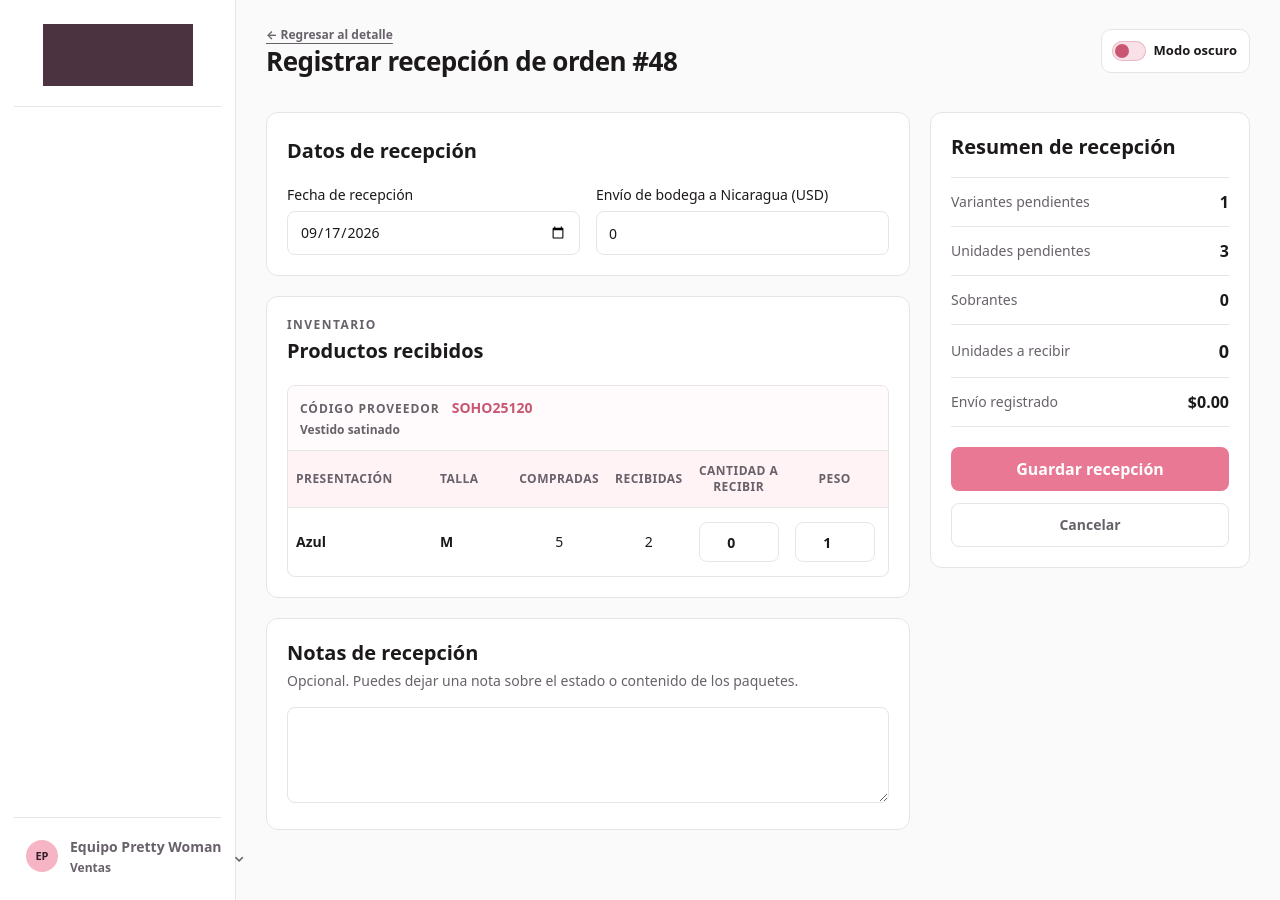
Test case: PurchaseOrderReceivePage › requiere confirmar antes de enviar la recepción y permite cancelar
The width and height of the screenshot is (1280, 900).
Expected: the heading "Registrar recepción de orden #48" is shown, [266, 47, 677, 76]
Click the button "Guardar recepción" at (1090, 469), box [951, 447, 1229, 491]
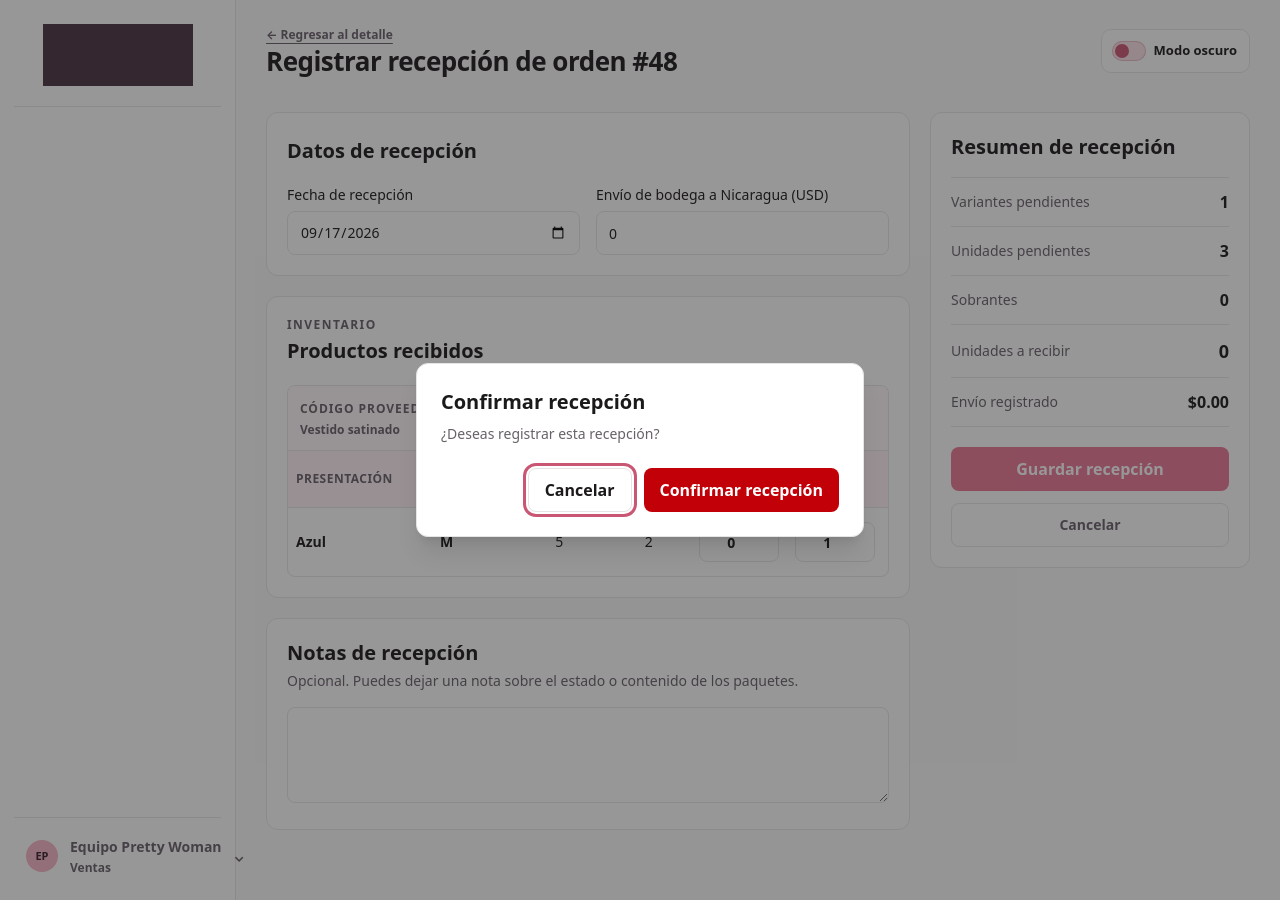
Expected: the dialog "Confirmar recepción" shows "¿Deseas registrar esta recepción?", [441, 424, 660, 443]
Click the button "Cancelar" at (580, 490), box [528, 468, 632, 512]
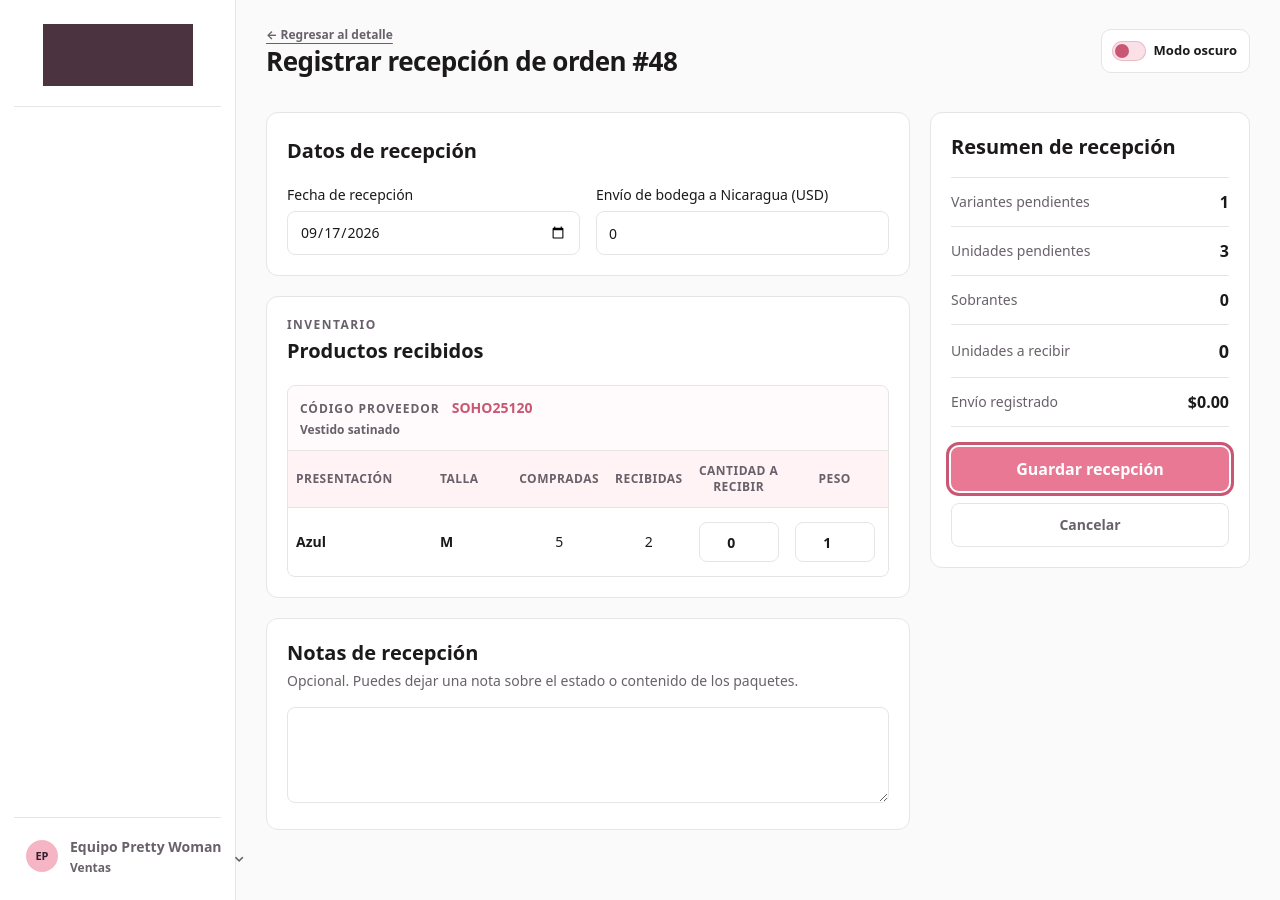
Expected: the dialog is gone
